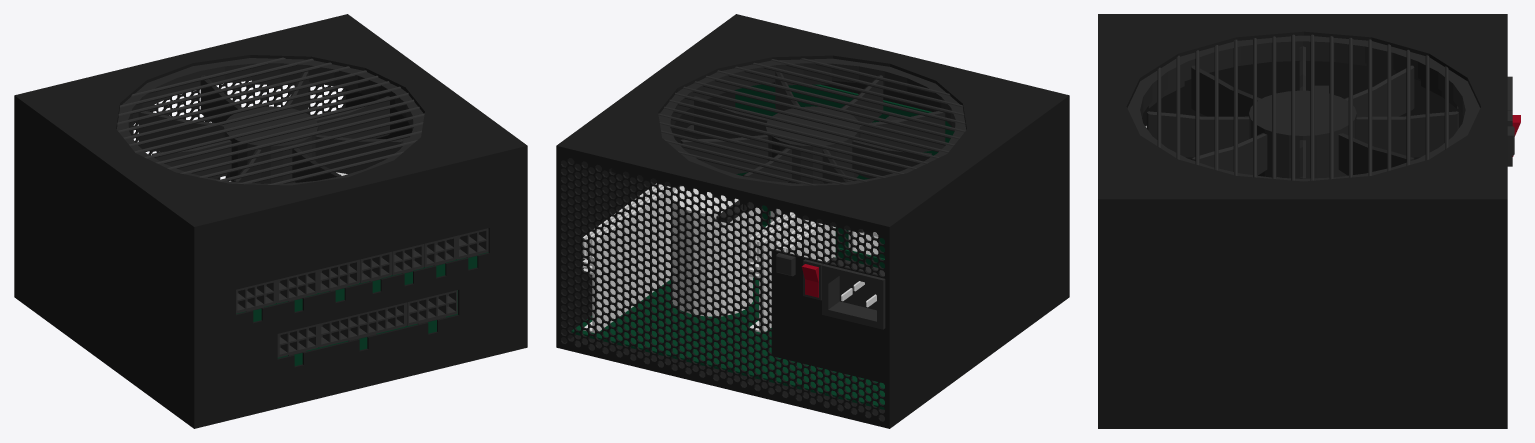
File: PC_PSU.fbx
3 views of the same model, side by side, from view 1: azimuth 30°, elevation 25°; view 2: azimuth 150°, elevation 25°; view 3: azimuth 270°, elevation 25° (orthographic). The views are drawn at different scales.
Parts seen in each view (by area): view 1: PSU_BaseCase.002; view 2: PSU_BaseCase.002; view 3: PSU_BaseCase.002.
Boxes of the visible parts, x1,y1,x2,y2 form: PSU_BaseCase.002: (14,14,527,428); PSU_BaseCase.002: (556,14,1069,428); PSU_BaseCase.002: (1098,14,1520,428).
Bounding box in the file's own units: 55.38 × 32.04 × 53.44.
